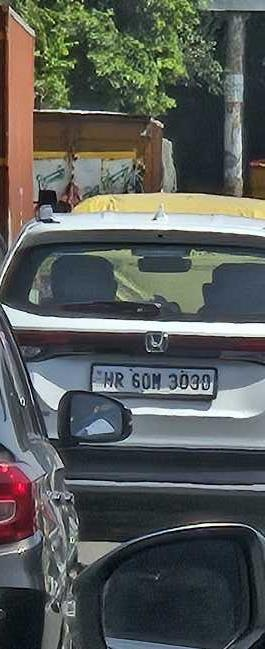License plate: (92, 364, 216, 395)
